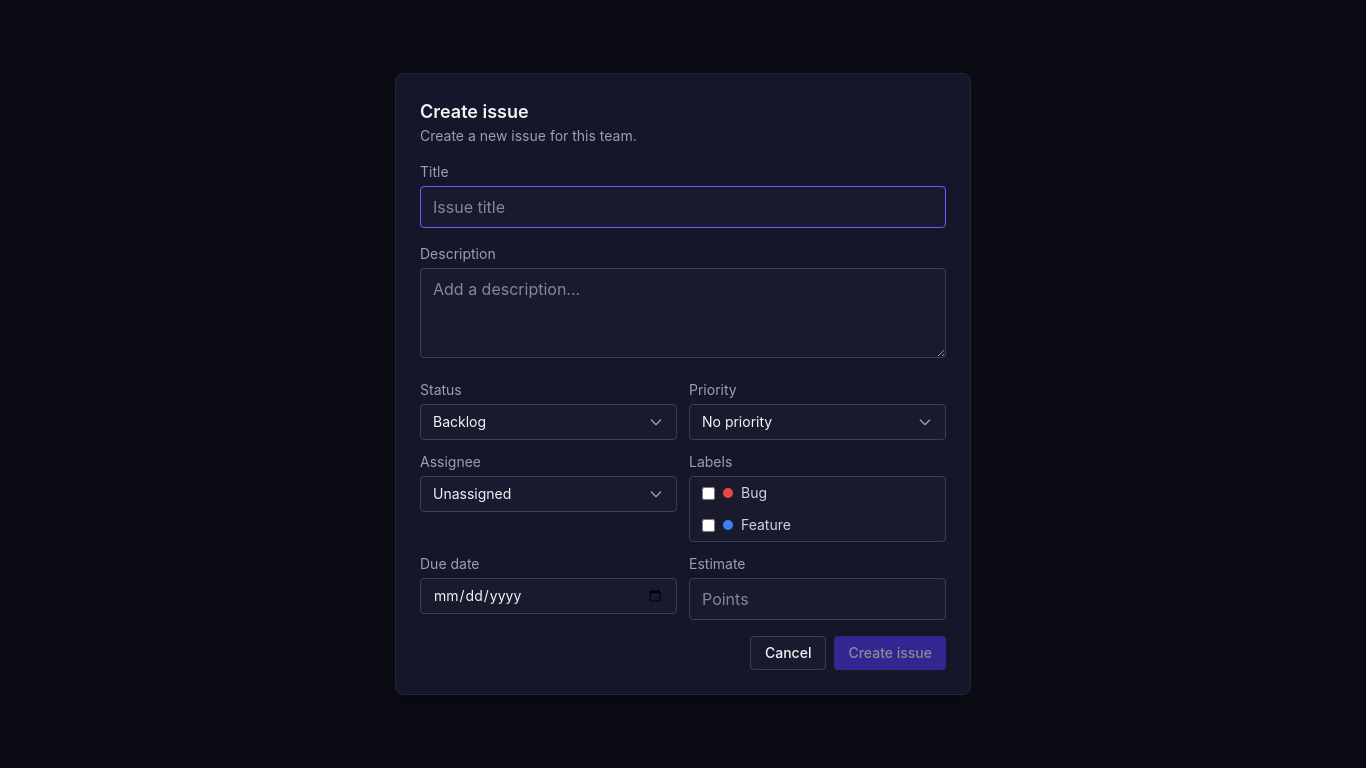
Test: CreateIssueDialog › shows error message on failure
This screenshot has width=1366, height=768.
Type "Test" into the field labelled "Title" at (683, 207), box 420,186 -> 946,228
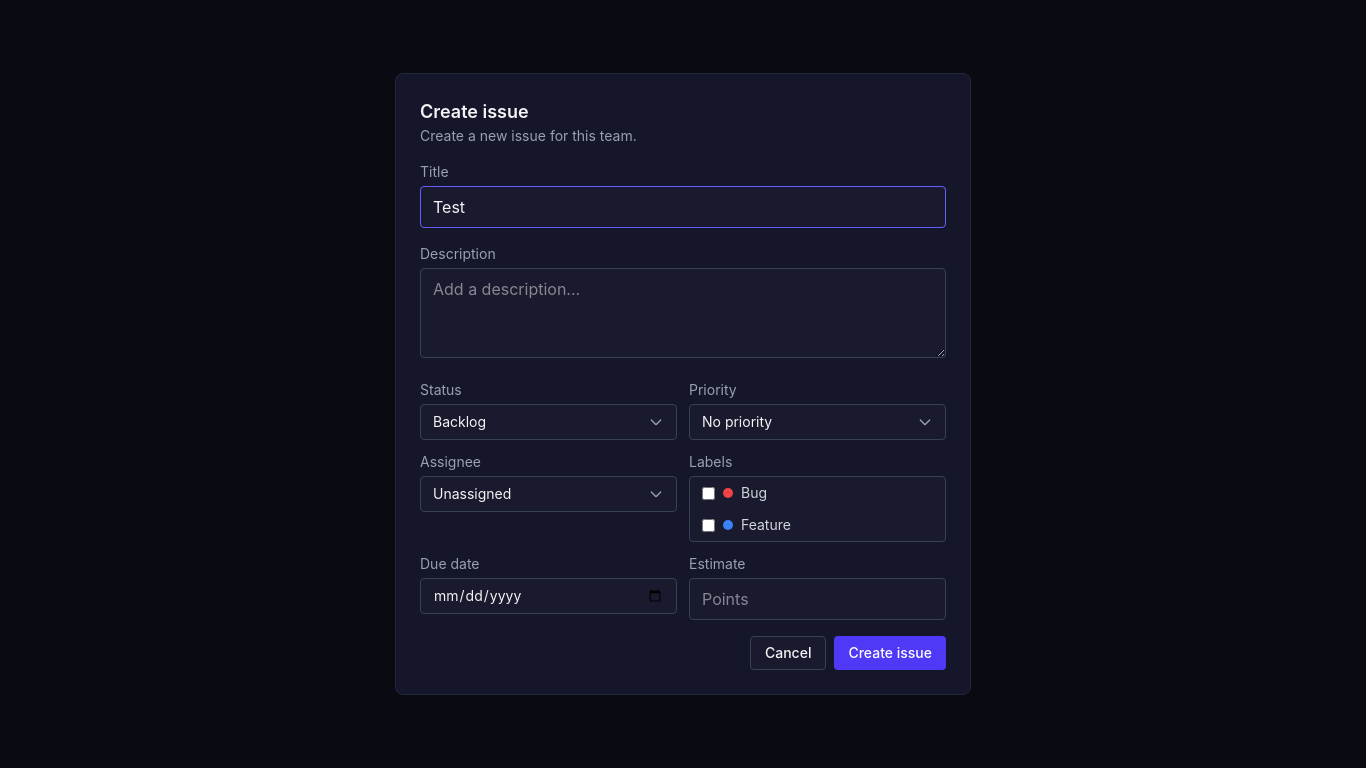
Click the button "Create issue" at (890, 653), box 834,636 -> 946,670
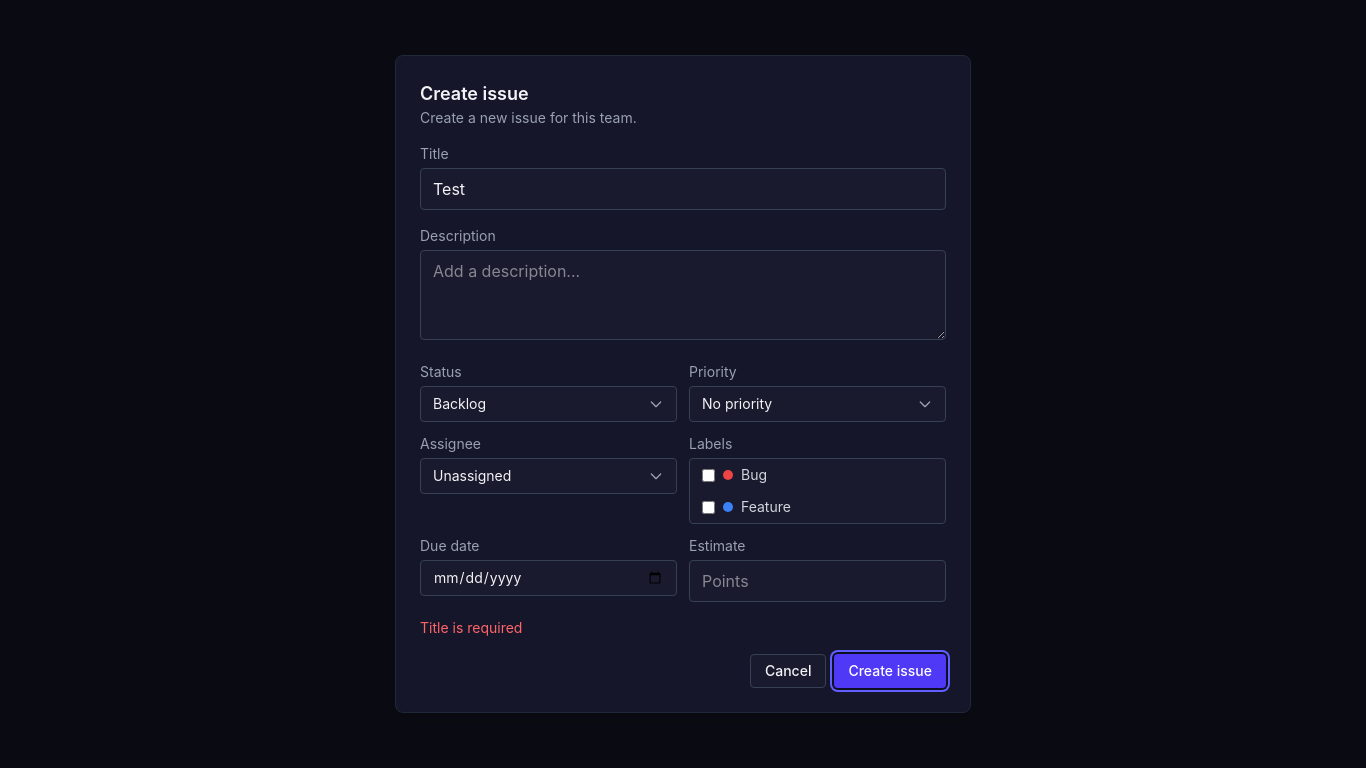
Check: the text "Title is required" is shown, box 420,619 -> 522,636
